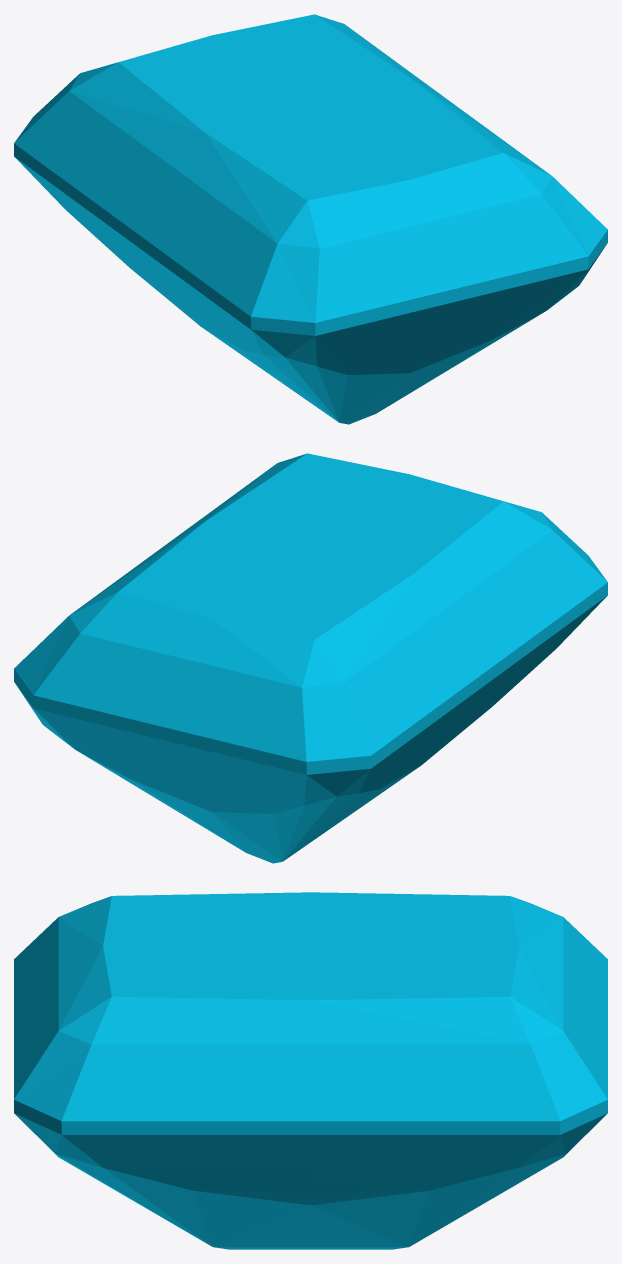
File: Head_Hidden Halo_Radiant_0.75ct_Diamond.glb
3 renders of one model, top to bottom at view 1: azimuth 30°, elevation 25°; view 2: azimuth 150°, elevation 25°; view 3: azimuth 270°, elevation 25°, orthographic. The views are drawn at different scales.
Size of the model in its own units: 0.00452 by 0.00349 by 0.00618.
